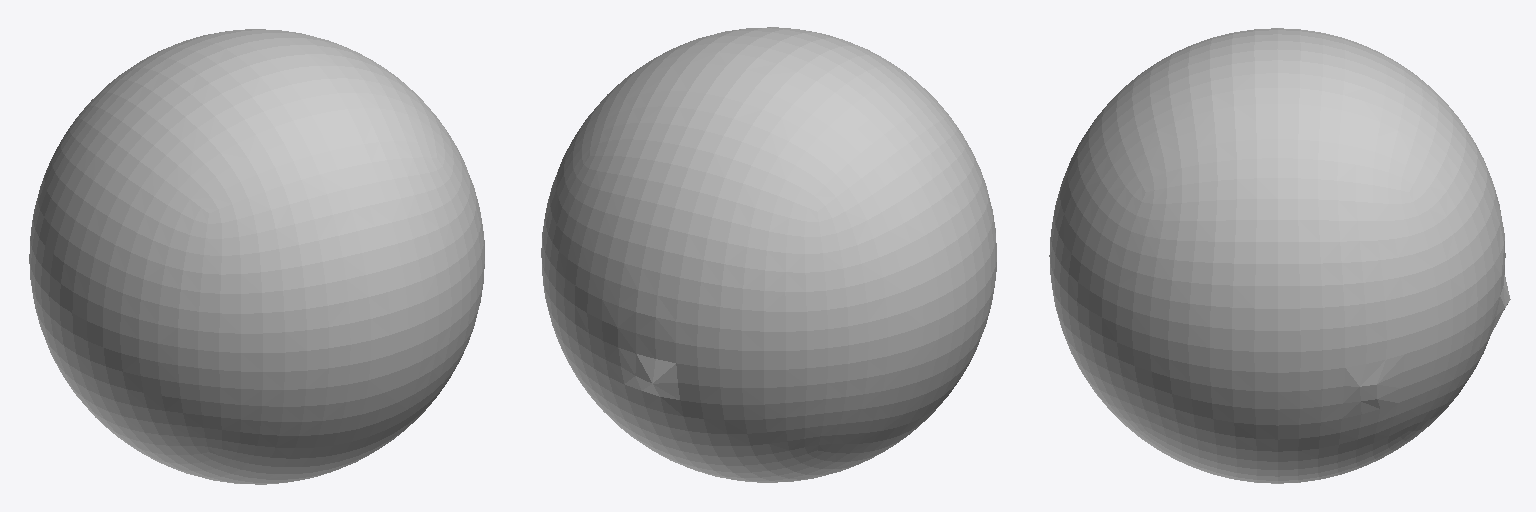
The model's file is SheepMud.obj.
The picture shows the model from 3 angles: view 1: azimuth 30°, elevation 25°; view 2: azimuth 150°, elevation 25°; view 3: azimuth 270°, elevation 25°; orthographic projection.
Parts seen in each view (by area): view 1: sphere_1, sphere1_1; view 2: sphere_1, sphere1_1; view 3: sphere_1, sphere1_1.
Boxes of the visible parts, x1=… form: sphere_1: x1=29, y1=29, x2=484, y2=484; sphere1_1: x1=31, y1=279, x2=92, y2=411; sphere_1: x1=541, y1=27, x2=996, y2=482; sphere1_1: x1=874, y1=312, x2=975, y2=430; sphere_1: x1=1049, y1=28, x2=1510, y2=483; sphere1_1: x1=1150, y1=342, x2=1377, y2=427.
Size of the model in its own units: 207 by 207 by 209.